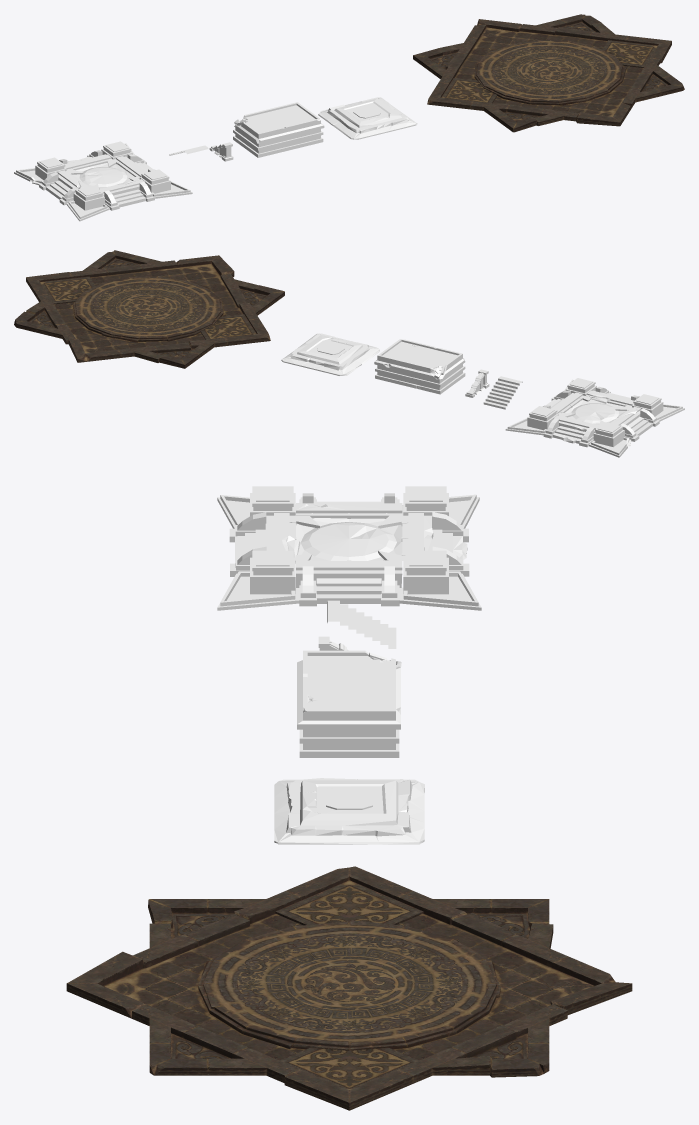
The model's file is 2_LSSD_HeiTaiJie_01.FBX.
3 renders of one model, top to bottom at view 1: azimuth 30°, elevation 25°; view 2: azimuth 150°, elevation 25°; view 3: azimuth 270°, elevation 25°, orthographic. The views are drawn at different scales.
Visible parts, largest first — view 1: 2_LSSD_FangXingTai_01, 2_LSSD_HuangFangTai_01, 2_LSSD_ZhuanPingTai_01, 2_LSSD_ZiFangTai_01; view 2: 2_LSSD_FangXingTai_01, 2_LSSD_HuangFangTai_01, 2_LSSD_ZhuanPingTai_01, 2_LSSD_ZiFangTai_01, 2_LSSD_HeiTaiJie_01, 2_LSSD_HeiTaiJieTou_01; view 3: 2_LSSD_FangXingTai_01, 2_LSSD_HuangFangTai_01, 2_LSSD_ZhuanPingTai_01, 2_LSSD_ZiFangTai_01, 2_LSSD_HeiTaiJie_01.
Boxes of the visible parts, x1,y1,x2,y2 form: 2_LSSD_FangXingTai_01: (413,14,684,132); 2_LSSD_HuangFangTai_01: (14,141,192,221); 2_LSSD_ZhuanPingTai_01: (233,102,324,157); 2_LSSD_ZiFangTai_01: (318,97,417,139); 2_LSSD_FangXingTai_01: (14,250,284,368); 2_LSSD_HuangFangTai_01: (505,378,684,457); 2_LSSD_ZhuanPingTai_01: (374,339,465,394); 2_LSSD_ZiFangTai_01: (281,333,379,375); 2_LSSD_HeiTaiJie_01: (483,376,522,409); 2_LSSD_HeiTaiJieTou_01: (465,369,489,397); 2_LSSD_FangXingTai_01: (66,866,632,1110); 2_LSSD_HuangFangTai_01: (217,486,481,610); 2_LSSD_ZhuanPingTai_01: (297,650,401,757); 2_LSSD_ZiFangTai_01: (274,778,424,844); 2_LSSD_HeiTaiJie_01: (327,600,396,648).
Bounding box in the file's own units: 8070 × 280 × 3159.
Materials: 7 (1 with a texture image).
